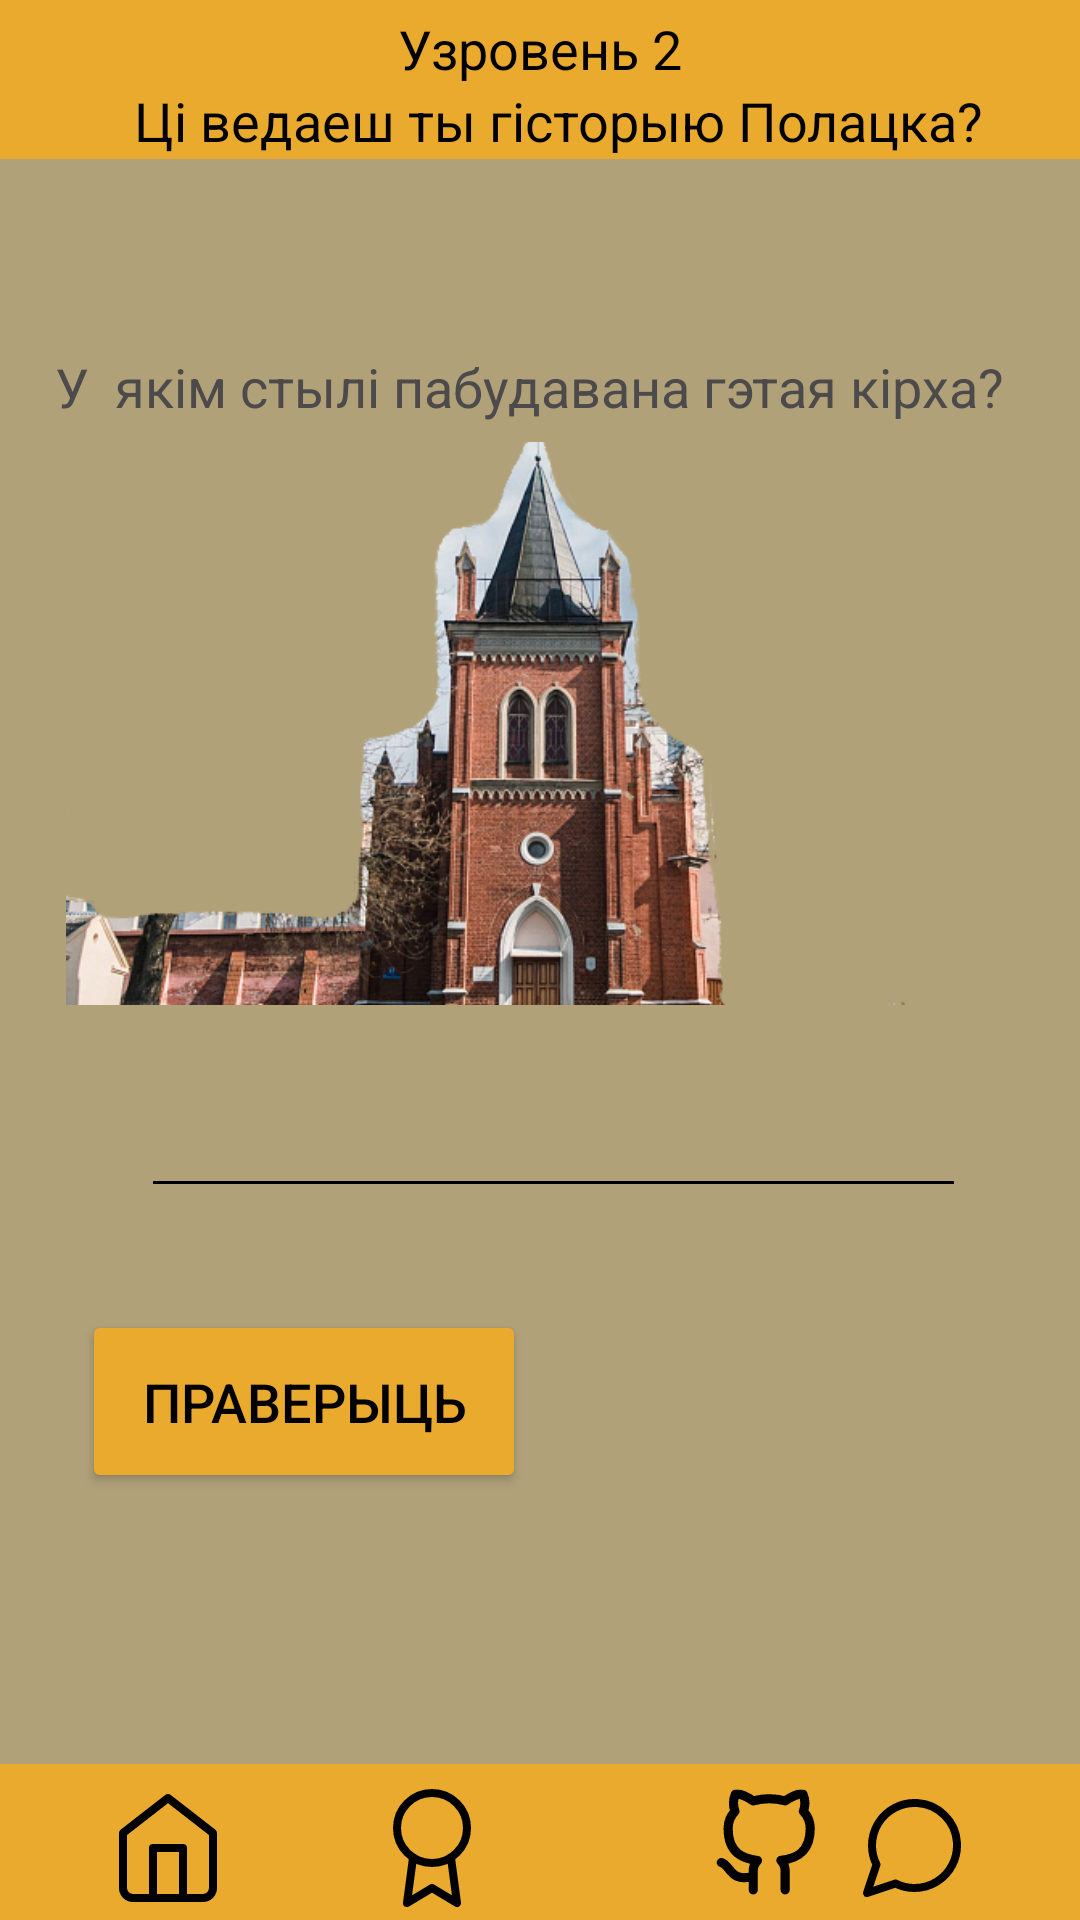

Where icons sit on this 1080 × 1920 app screen, as (x1,y1,x2,y2):
award: (393,1789,471,1908)
home: (119,1794,217,1902)
message circle: (863,1799,961,1897)
